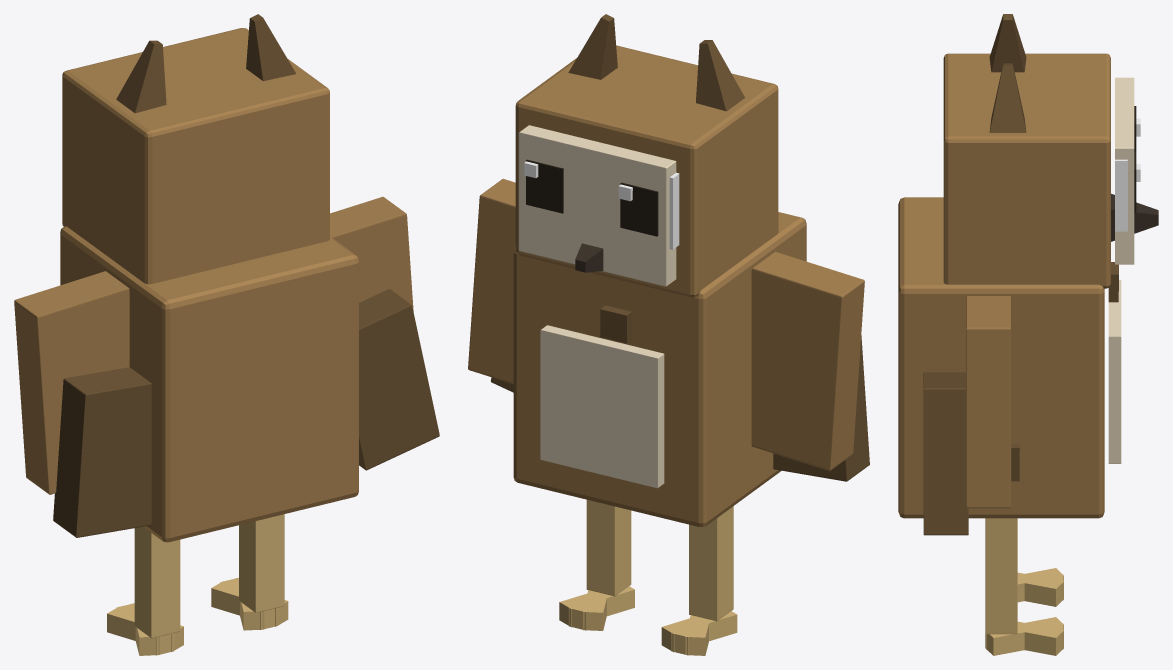
Rendered from burrowing-owl.glb.
3 renders of one model, left to right at view 1: azimuth 30°, elevation 25°; view 2: azimuth 150°, elevation 25°; view 3: azimuth 270°, elevation 25°, orthographic. The views are drawn at different scales.
Visible parts, largest first — view 1: body, head, wing.R, wing.L, leg.FR, leg.FL; view 2: body, head, wing.R, wing.L, leg.FR, leg.FL; view 3: head, body, wing.L, leg.FL, leg.FR.
Boxes of the visible parts, x1,y1,x2,y2 form: body: (60, 226, 358, 542); head: (62, 14, 329, 284); wing.R: (14, 271, 151, 537); wing.L: (330, 196, 439, 470); leg.FR: (107, 526, 183, 655); leg.FL: (211, 514, 288, 630); body: (513, 212, 806, 527); head: (515, 14, 778, 297); wing.R: (751, 251, 869, 481); wing.L: (468, 178, 515, 392); leg.FR: (661, 506, 737, 655); leg.FL: (559, 499, 634, 630); head: (943, 14, 1158, 288); body: (898, 197, 1121, 518); wing.L: (923, 296, 1011, 535); leg.FL: (985, 518, 1063, 655); leg.FR: (1017, 568, 1063, 606).
Bounding box in the file's own units: 0.6622 × 1 × 0.4054.
